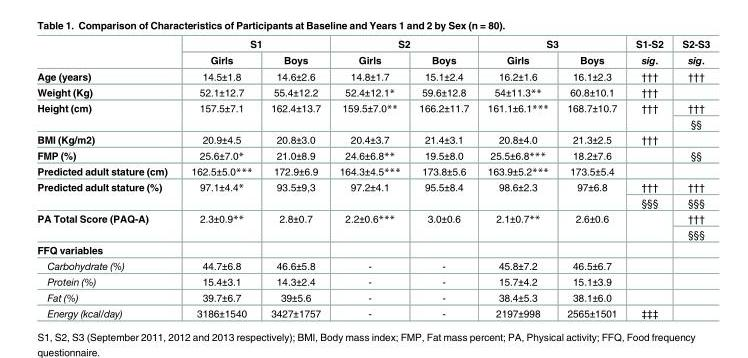table: (36, 37, 709, 318)
table column: (36, 37, 178, 318), (178, 37, 260, 318), (329, 37, 409, 318), (477, 37, 557, 318), (260, 37, 329, 318), (409, 37, 477, 318), (557, 37, 625, 318), (625, 37, 672, 318), (672, 37, 709, 318)
table column header: (36, 37, 709, 68)
table projected row header: (36, 241, 709, 257)
table row: (36, 51, 709, 68), (36, 83, 709, 99), (36, 99, 709, 115), (36, 115, 709, 131), (36, 131, 709, 147), (36, 162, 709, 178), (36, 178, 709, 194), (36, 194, 709, 210), (36, 225, 709, 241), (36, 241, 709, 257), (36, 257, 709, 273), (36, 273, 709, 289), (36, 289, 709, 305), (36, 68, 709, 83), (36, 147, 709, 162), (36, 210, 709, 225), (36, 37, 709, 51), (36, 305, 709, 318)
table spanning cell: (36, 99, 178, 131), (36, 178, 178, 210), (36, 210, 178, 241), (178, 99, 260, 131), (178, 178, 260, 210), (329, 99, 409, 131), (477, 99, 557, 131), (329, 178, 409, 210), (477, 178, 557, 210), (178, 210, 260, 241), (329, 210, 409, 241), (477, 210, 557, 241), (260, 99, 329, 131), (260, 178, 329, 210), (409, 99, 477, 131), (557, 99, 625, 131), (409, 178, 477, 210), (557, 178, 625, 210), (260, 210, 329, 241), (178, 37, 329, 51), (409, 210, 477, 241), (557, 210, 625, 241), (329, 37, 477, 51), (477, 37, 625, 51), (625, 99, 672, 131), (625, 37, 672, 68), (672, 37, 709, 68)
